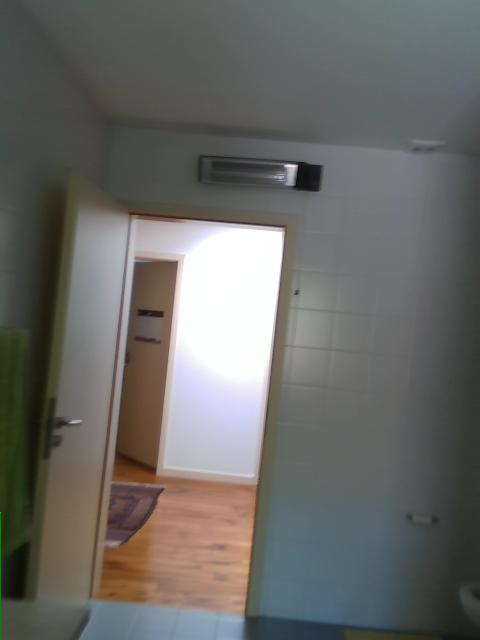open_door: (47, 198, 299, 638)
